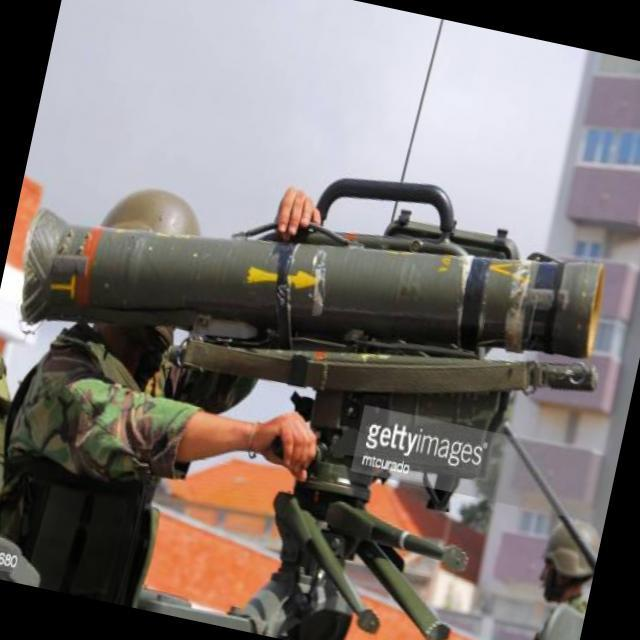rocket: (9, 144, 618, 443)
